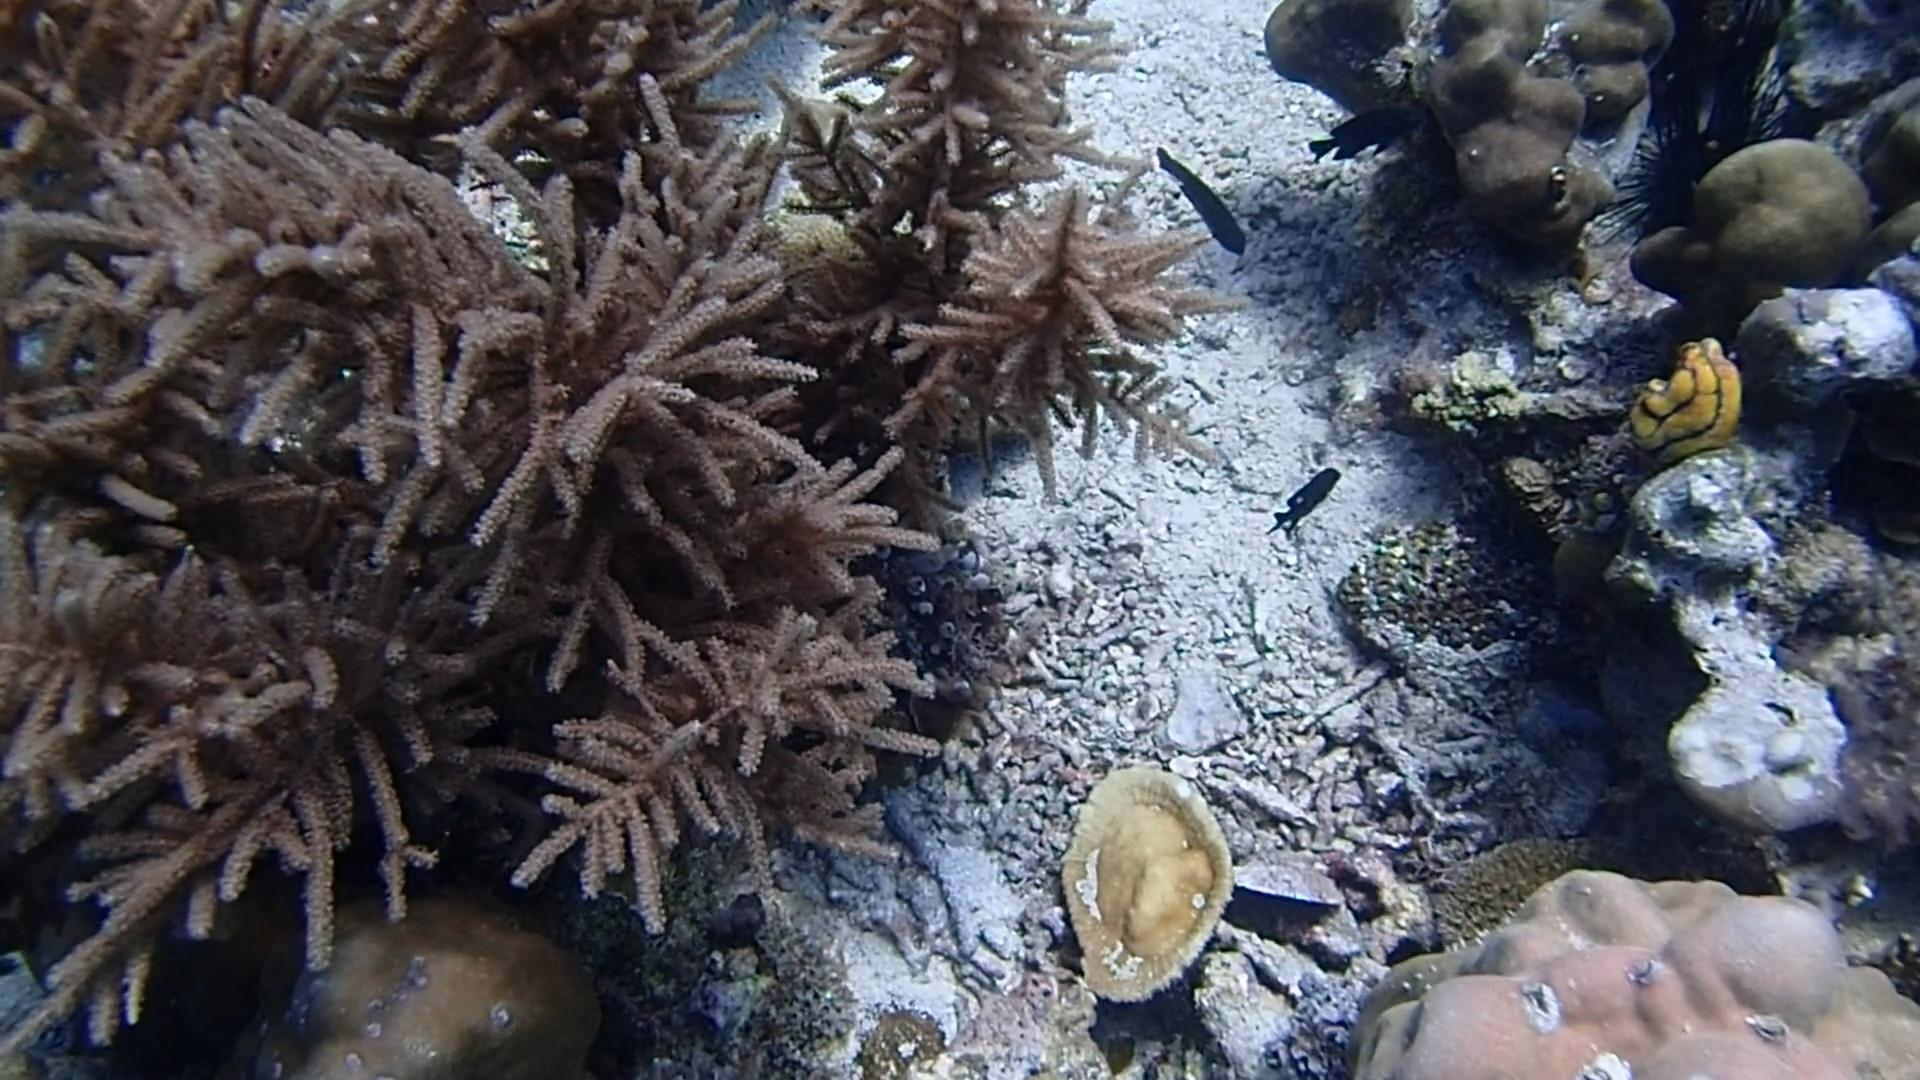Dark Fish: (1146, 138, 1251, 261), (1299, 100, 1422, 173), (1261, 455, 1350, 542)
